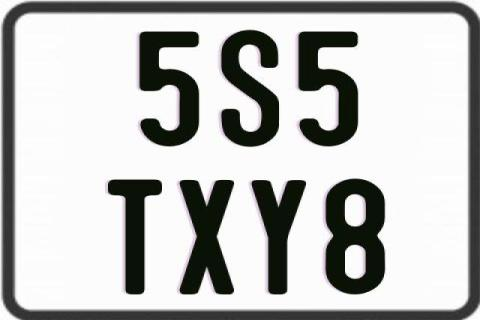0: (139, 30, 204, 148), (296, 30, 361, 148), (325, 178, 386, 294)
S: (221, 29, 282, 149)
T: (107, 178, 161, 298)
X: (177, 180, 236, 296)
Y: (248, 179, 309, 295)
